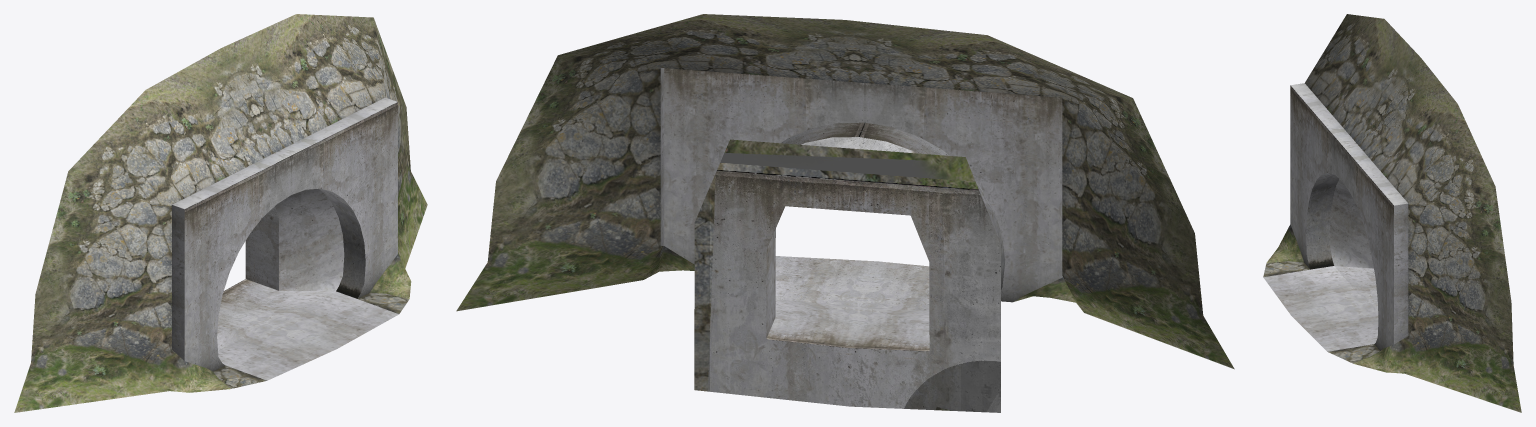
File: Edgar_StartingArea.DAE
The picture shows the model from 3 angles, left to right: view 1: azimuth 30°, elevation 25°; view 2: azimuth 150°, elevation 25°; view 3: azimuth 270°, elevation 25°; orthographic projection. The views are drawn at different scales.
Visible parts, largest first — view 1: Entrance; view 2: Entrance; view 3: Entrance.
Part boxes in pixels (left/top/right/bottom): Entrance: left=14, top=14, right=427, bottom=412; Entrance: left=456, top=14, right=1234, bottom=412; Entrance: left=1263, top=14, right=1521, bottom=412.
Size of what is drawn, in the model's own units: 816 by 455 by 382.
1 material, 1 textured.
